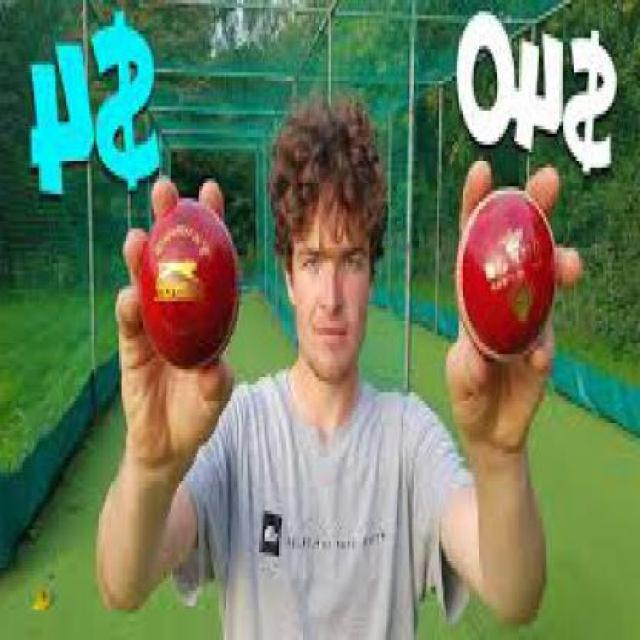ball: (93, 177, 288, 417), (434, 168, 586, 378)
